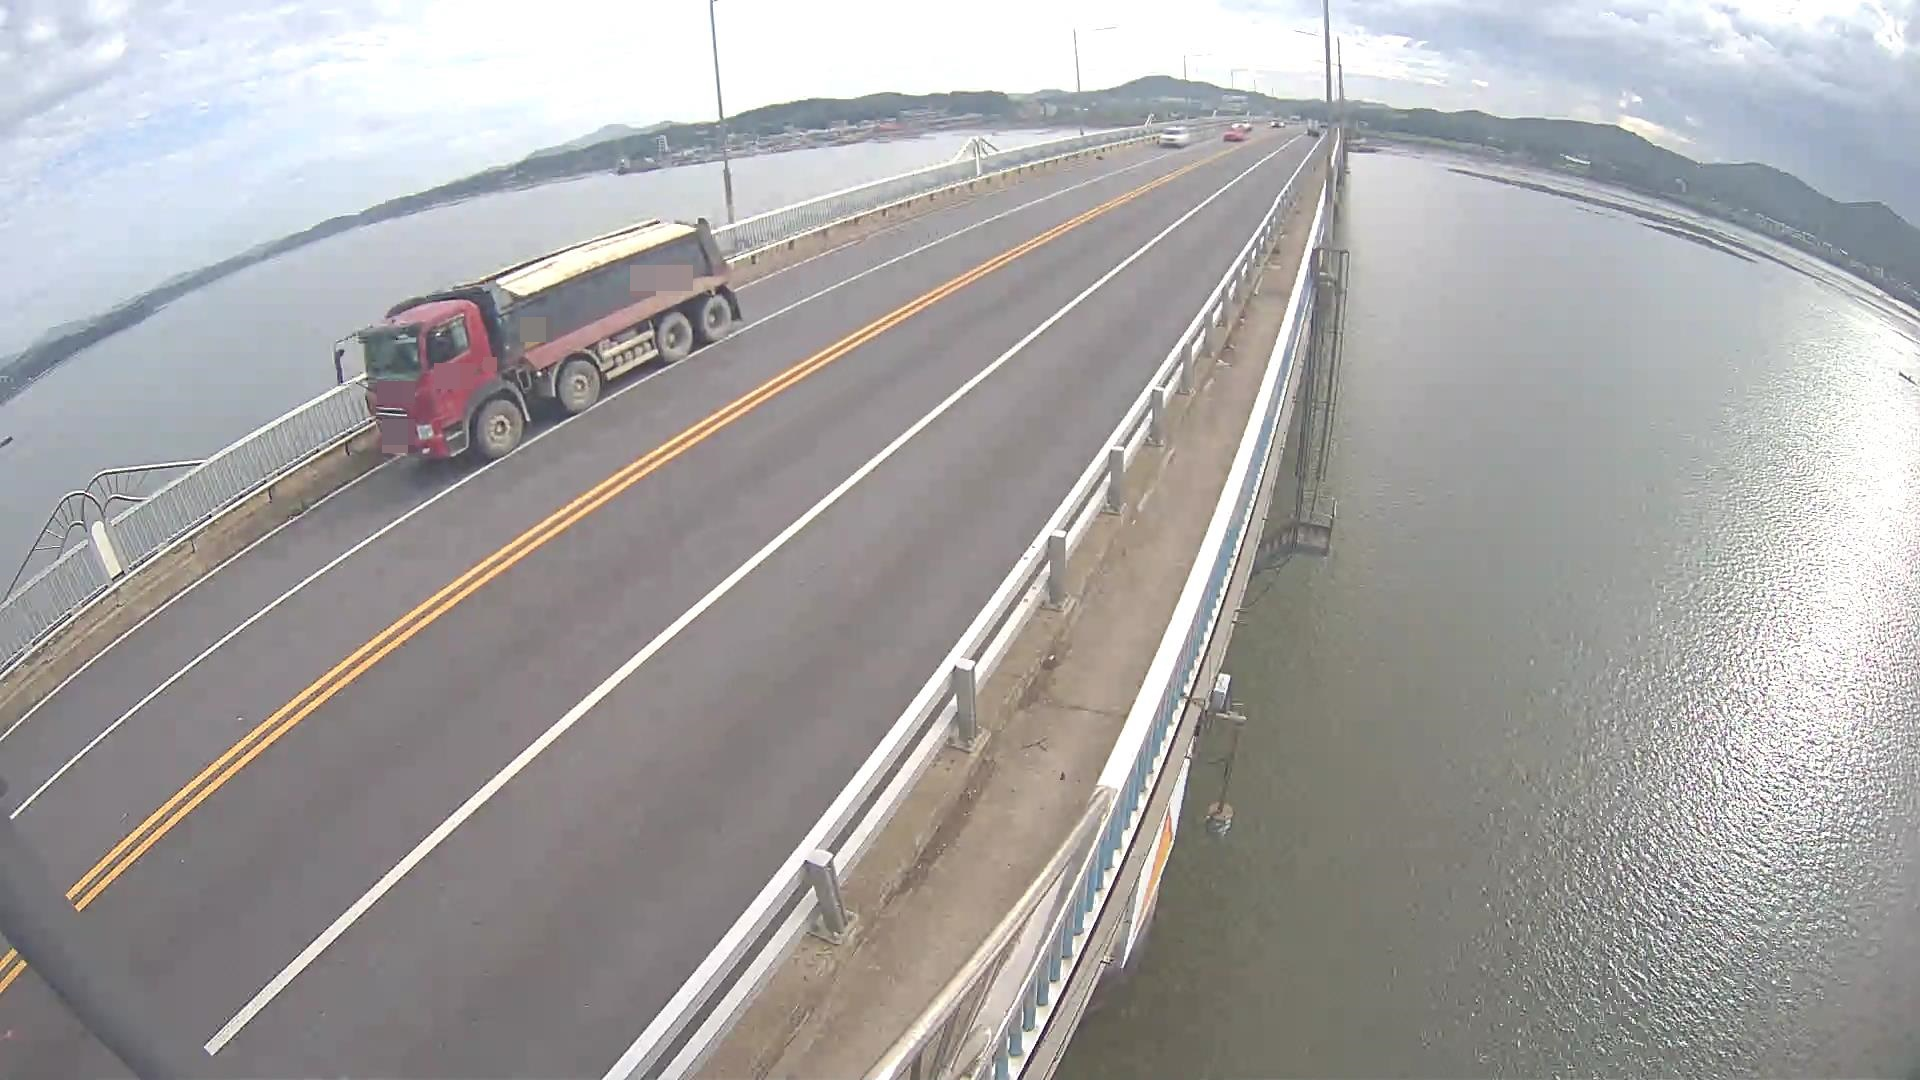정상차량: (335, 216, 742, 459)
